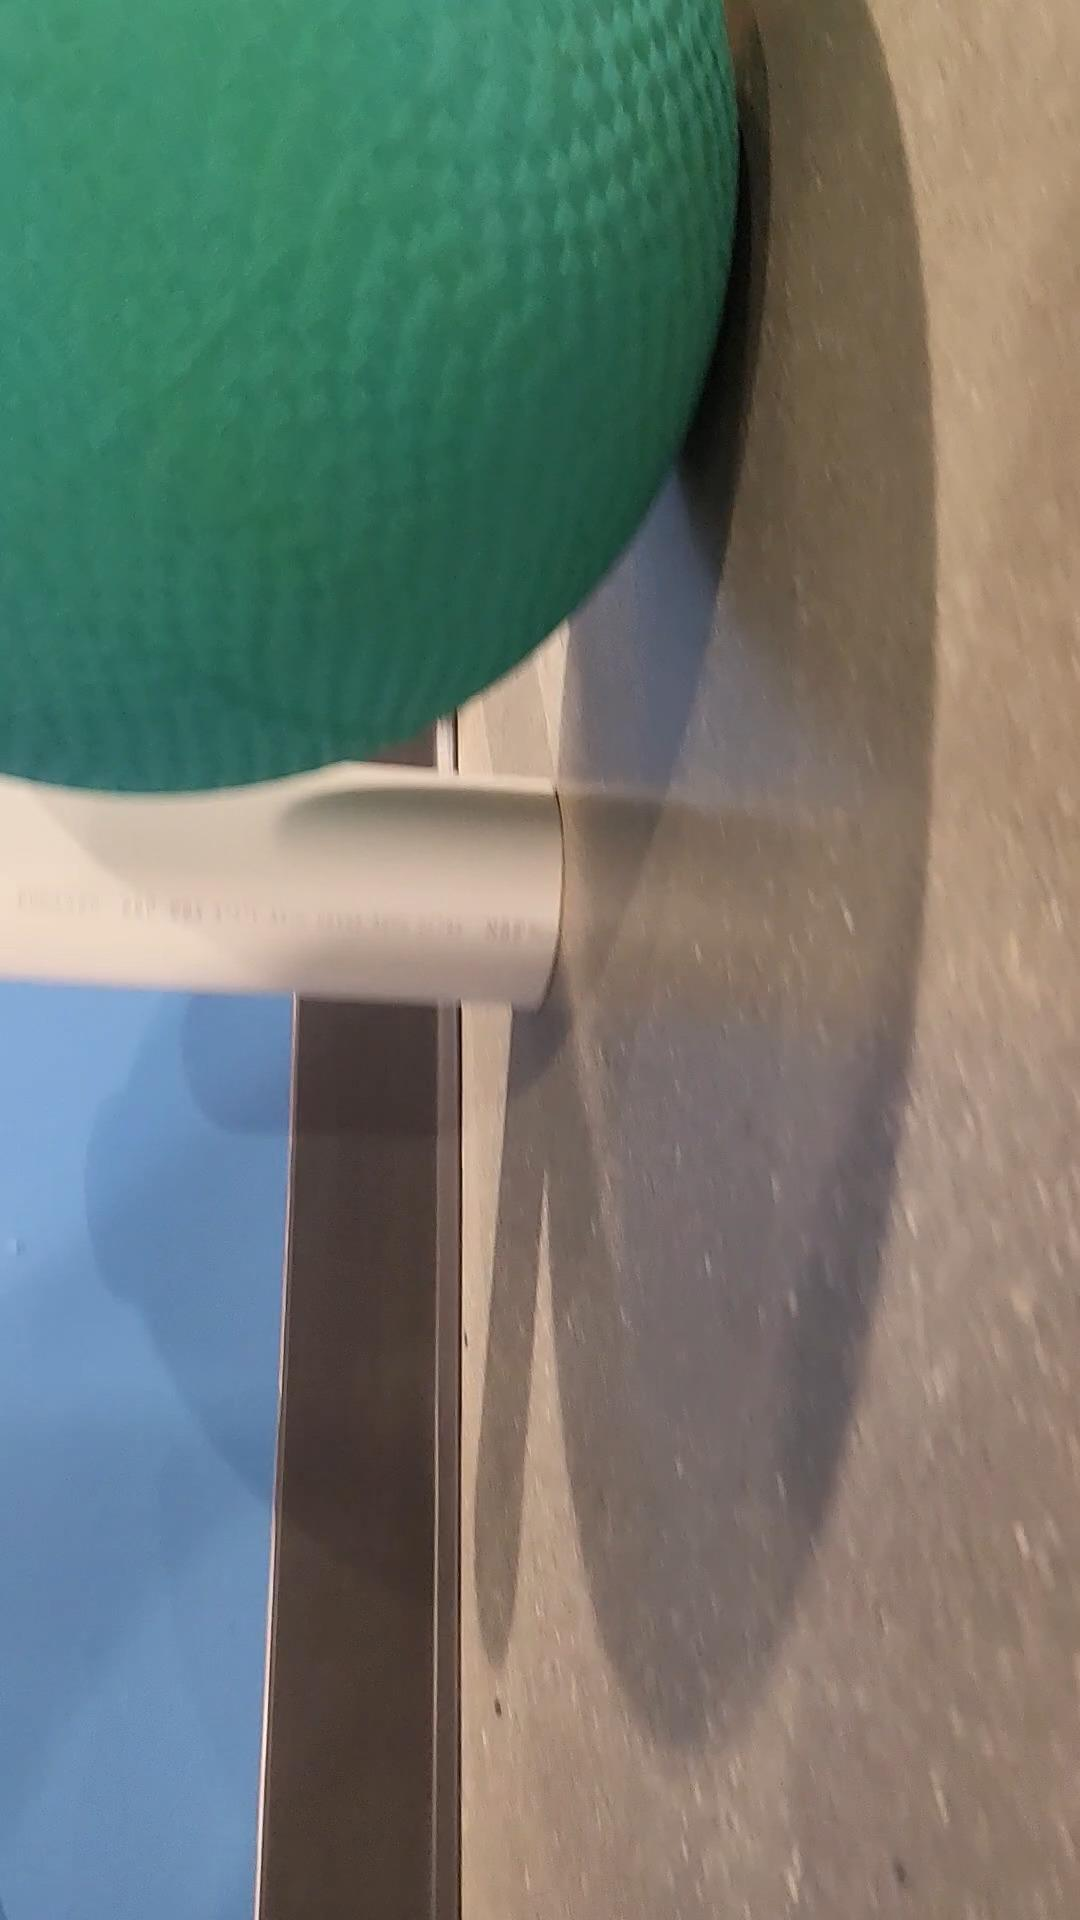algae: (0, 0, 757, 783)
coral: (0, 770, 574, 1010)
